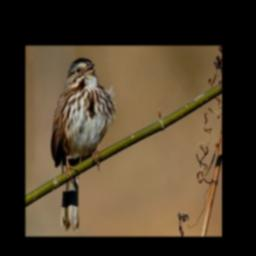Sparrow: (50, 57, 118, 231)
